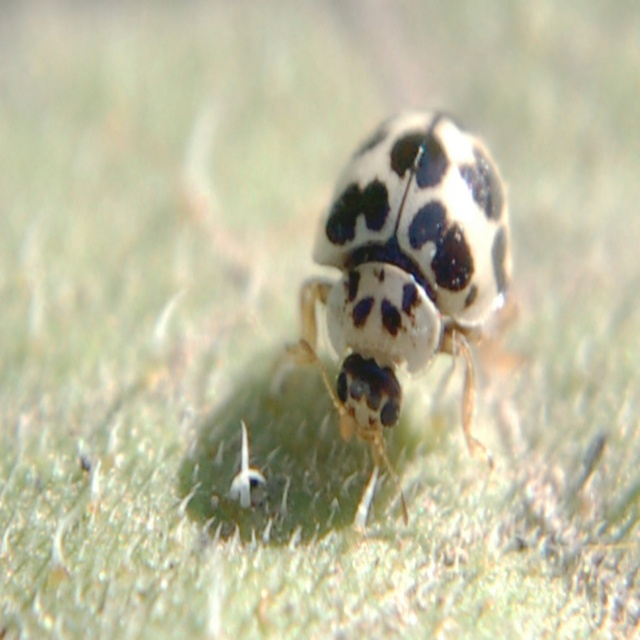Ladybug: (282, 109, 522, 526)
